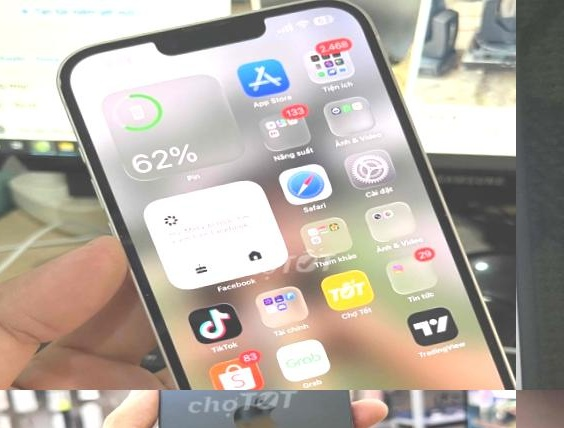scratch: (52, 78, 68, 96)
